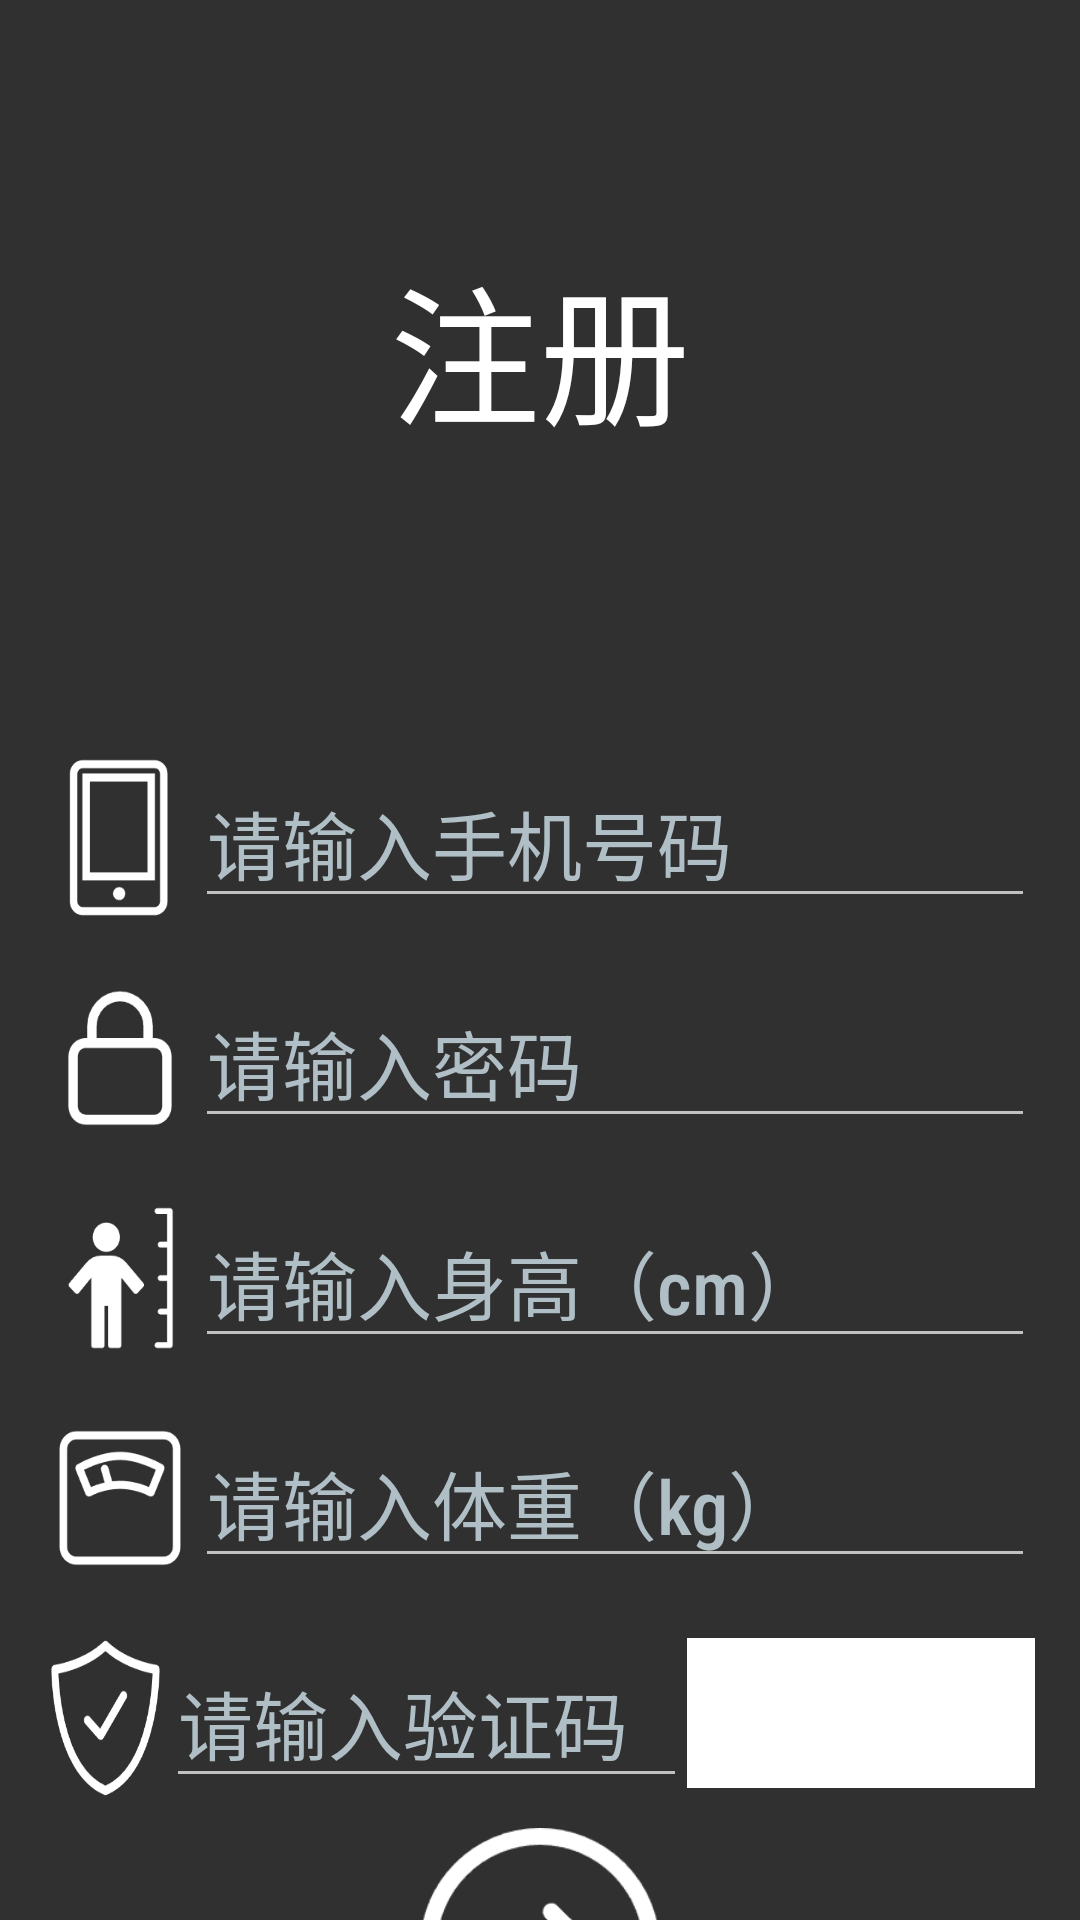

Icons on this 1080 x 1920 Android screen, each with its box as (x1, y1, x2, y2):
height: (68, 1208, 173, 1349)
password: (68, 991, 172, 1125)
phone: (69, 760, 168, 916)
weight: (59, 1431, 181, 1565)
